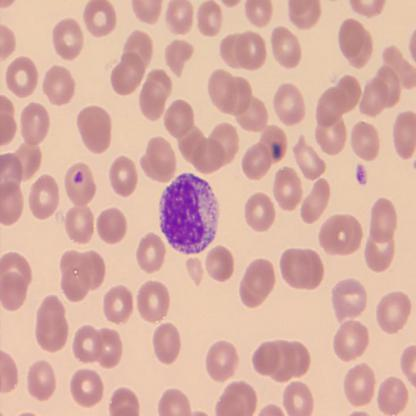Metamyelocyte: (159, 171, 221, 254)
